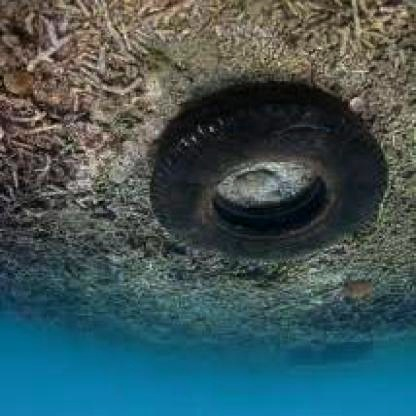tire: (146, 69, 408, 280)
